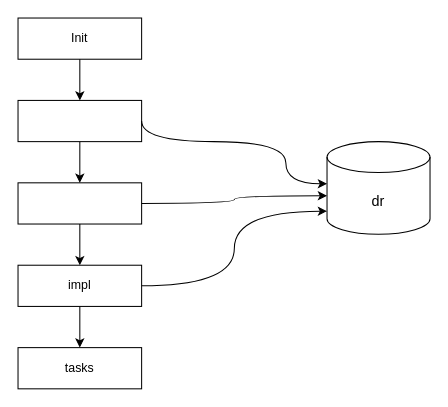
Image size: 448x407. Some labels were removed from this diagram. The box of each missing label's shape, as (x1, y1, x2, y2) in pixels:
req: (17, 99, 142, 142)
spec: (17, 182, 142, 224)
